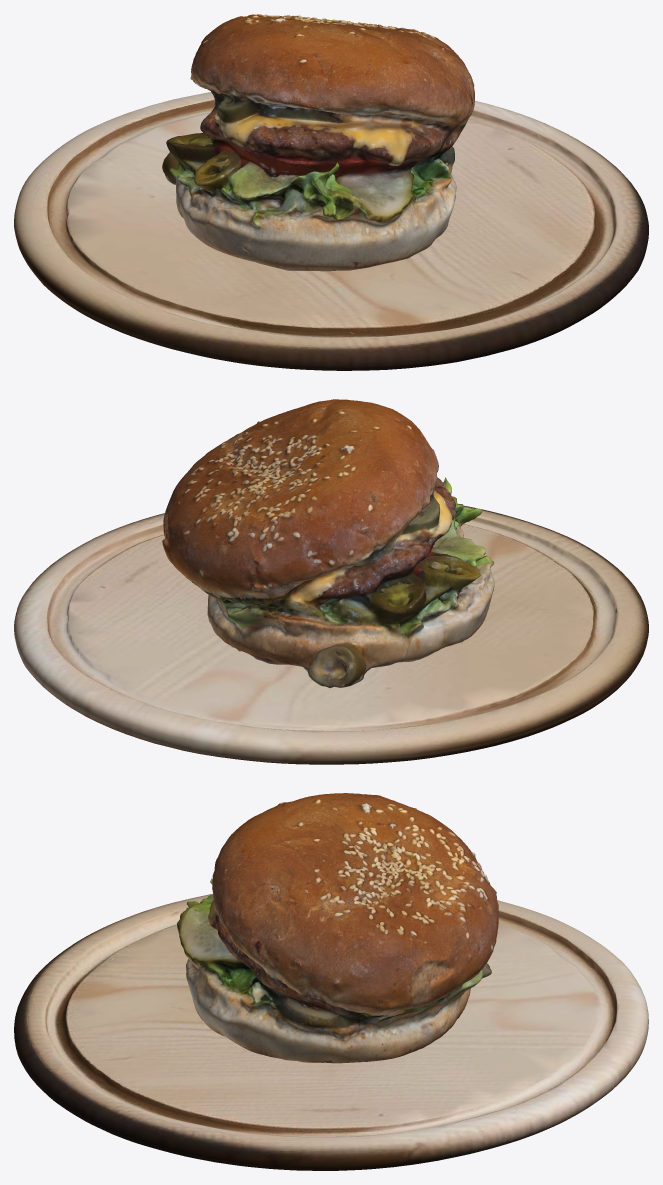
The model's file is tond.glb.
The picture shows the model from 3 angles, top to bottom: view 1: azimuth 30°, elevation 25°; view 2: azimuth 150°, elevation 25°; view 3: azimuth 270°, elevation 25°; orthographic projection.
Visible parts, largest first — view 1: Submesh_0.001, 3DModel; view 2: Submesh_0.001, 3DModel; view 3: Submesh_0.001, 3DModel.
Part boxes in pixels (x1=…): Submesh_0.001: x1=14, y1=92, x2=648, y2=370; 3DModel: x1=162, y1=14, x2=474, y2=271; Submesh_0.001: x1=14, y1=505, x2=648, y2=764; 3DModel: x1=162, y1=399, x2=494, y2=687; Submesh_0.001: x1=14, y1=894, x2=648, y2=1170; 3DModel: x1=177, y1=793, x2=498, y2=1063.
Bounding box in the file's own units: 0.2887 × 0.113 × 0.2886.
2 materials, 2 textured.
